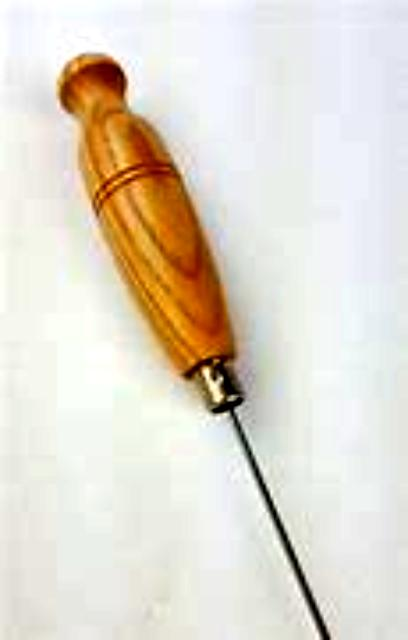ice pick: (53, 50, 344, 640)
